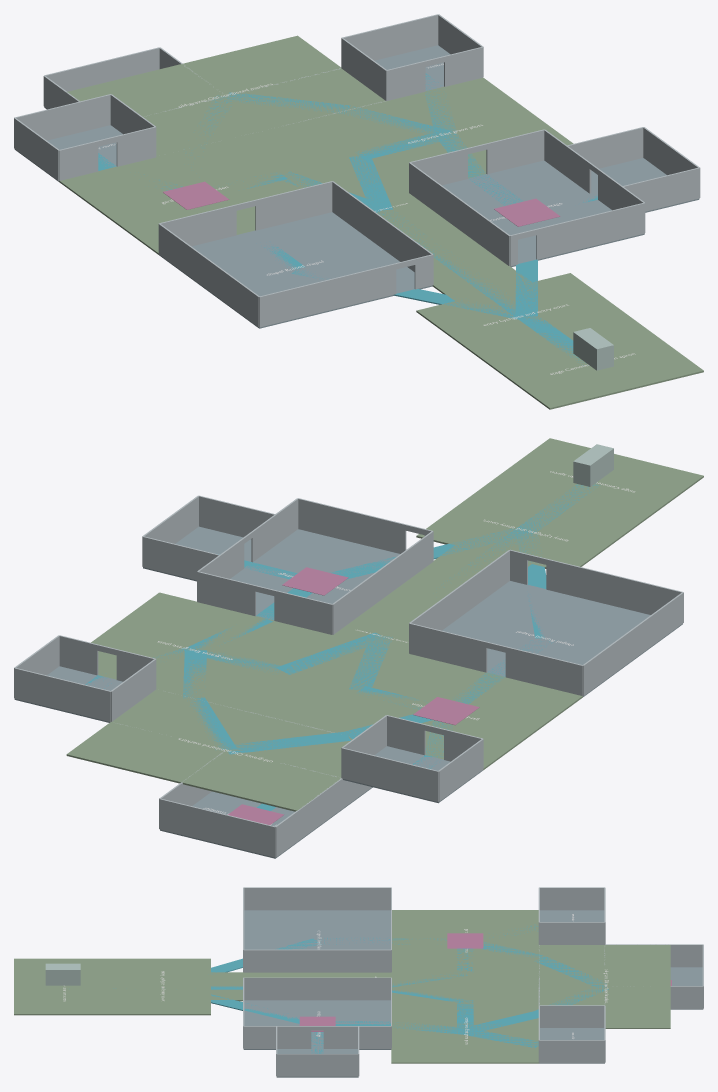
The model's file is rough-shell.glb.
3 views of the same model, one above another, from view 1: azimuth 30°, elevation 25°; view 2: azimuth 150°, elevation 25°; view 3: azimuth 270°, elevation 25° (orthographic). The views are drawn at different scales.
Parts seen in each view (by area): view 1: Floor old-graves, Floor avenue, Floor east-graves, Floor garden, Floor chapel, Floor stage, Floor entry, Floor cottage, Wall chapel S, Wall cottage S.001, Wall chapel W, Wall cottage W (+35 smaller); view 2: Floor old-graves, Floor east-graves, Floor avenue, Floor garden, Floor chapel, Floor entry, Floor stage, Floor cottage, Wall chapel S, Wall chamber N, Wall cottage S.001, Wall cottage W (+36 smaller); view 3: Floor old-graves, Floor garden, Floor east-graves, Floor chapel, Floor avenue, Floor entry, Floor stage, Wall chapel E, Floor cottage, Wall chapel W, Wall cottage W, Wall tool E (+23 smaller).
Part boxes in pixels (x1,y1,x2,y2): Floor old-graves: (67, 35, 385, 156); Floor avenue: (233, 120, 531, 300); Floor east-graves: (310, 77, 573, 191); Floor garden: (59, 138, 300, 254); Floor chapel: (159, 212, 432, 328); Floor stage: (483, 322, 703, 409); Floor entry: (416, 273, 636, 360); Floor cottage: (442, 160, 644, 267); Wall chapel S: (259, 263, 396, 327); Wall cottage S.001: (536, 202, 644, 259); Wall chapel W: (158, 223, 259, 327); Wall cottage W: (409, 162, 509, 265); Floor old-graves: (66, 689, 352, 811); Floor east-graves: (91, 592, 331, 707); Floor avenue: (233, 545, 531, 726); Floor garden: (310, 654, 582, 770); Floor chapel: (442, 581, 682, 696); Floor entry: (416, 487, 637, 568); Floor stage: (483, 438, 703, 525); Floor cottage: (230, 529, 399, 619); Wall chapel S: (546, 558, 683, 614); Wall chamber N: (159, 798, 275, 857); Wall cottage S.001: (298, 498, 406, 553); Wall cottage W: (332, 531, 433, 634); Floor old-graves: (539, 945, 670, 1028); Floor garden: (392, 910, 539, 972); Floor east-graves: (391, 1000, 539, 1063); Floor chapel: (244, 910, 390, 949); Floor avenue: (211, 972, 539, 1001); Floor entry: (112, 958, 210, 1015); Floor stage: (14, 958, 112, 1015); Wall chapel E: (243, 949, 391, 972); Floor cottage: (243, 1000, 391, 1049); Wall chapel W: (244, 887, 390, 910); Wall cottage W: (244, 977, 390, 1000); Wall tool E: (276, 1054, 358, 1076).
Size of the model in its own units: 48.16 by 6.16 by 84.08.
